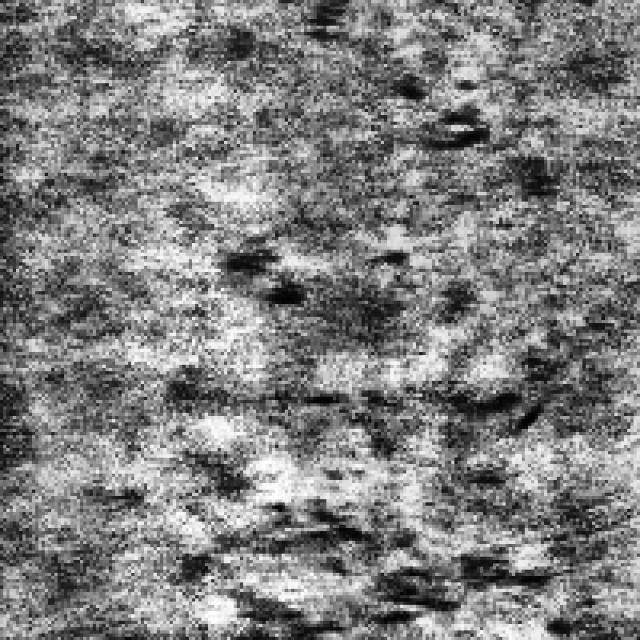Crazing: (266, 481, 566, 634), (304, 362, 538, 474), (208, 204, 419, 310), (388, 64, 487, 154)
